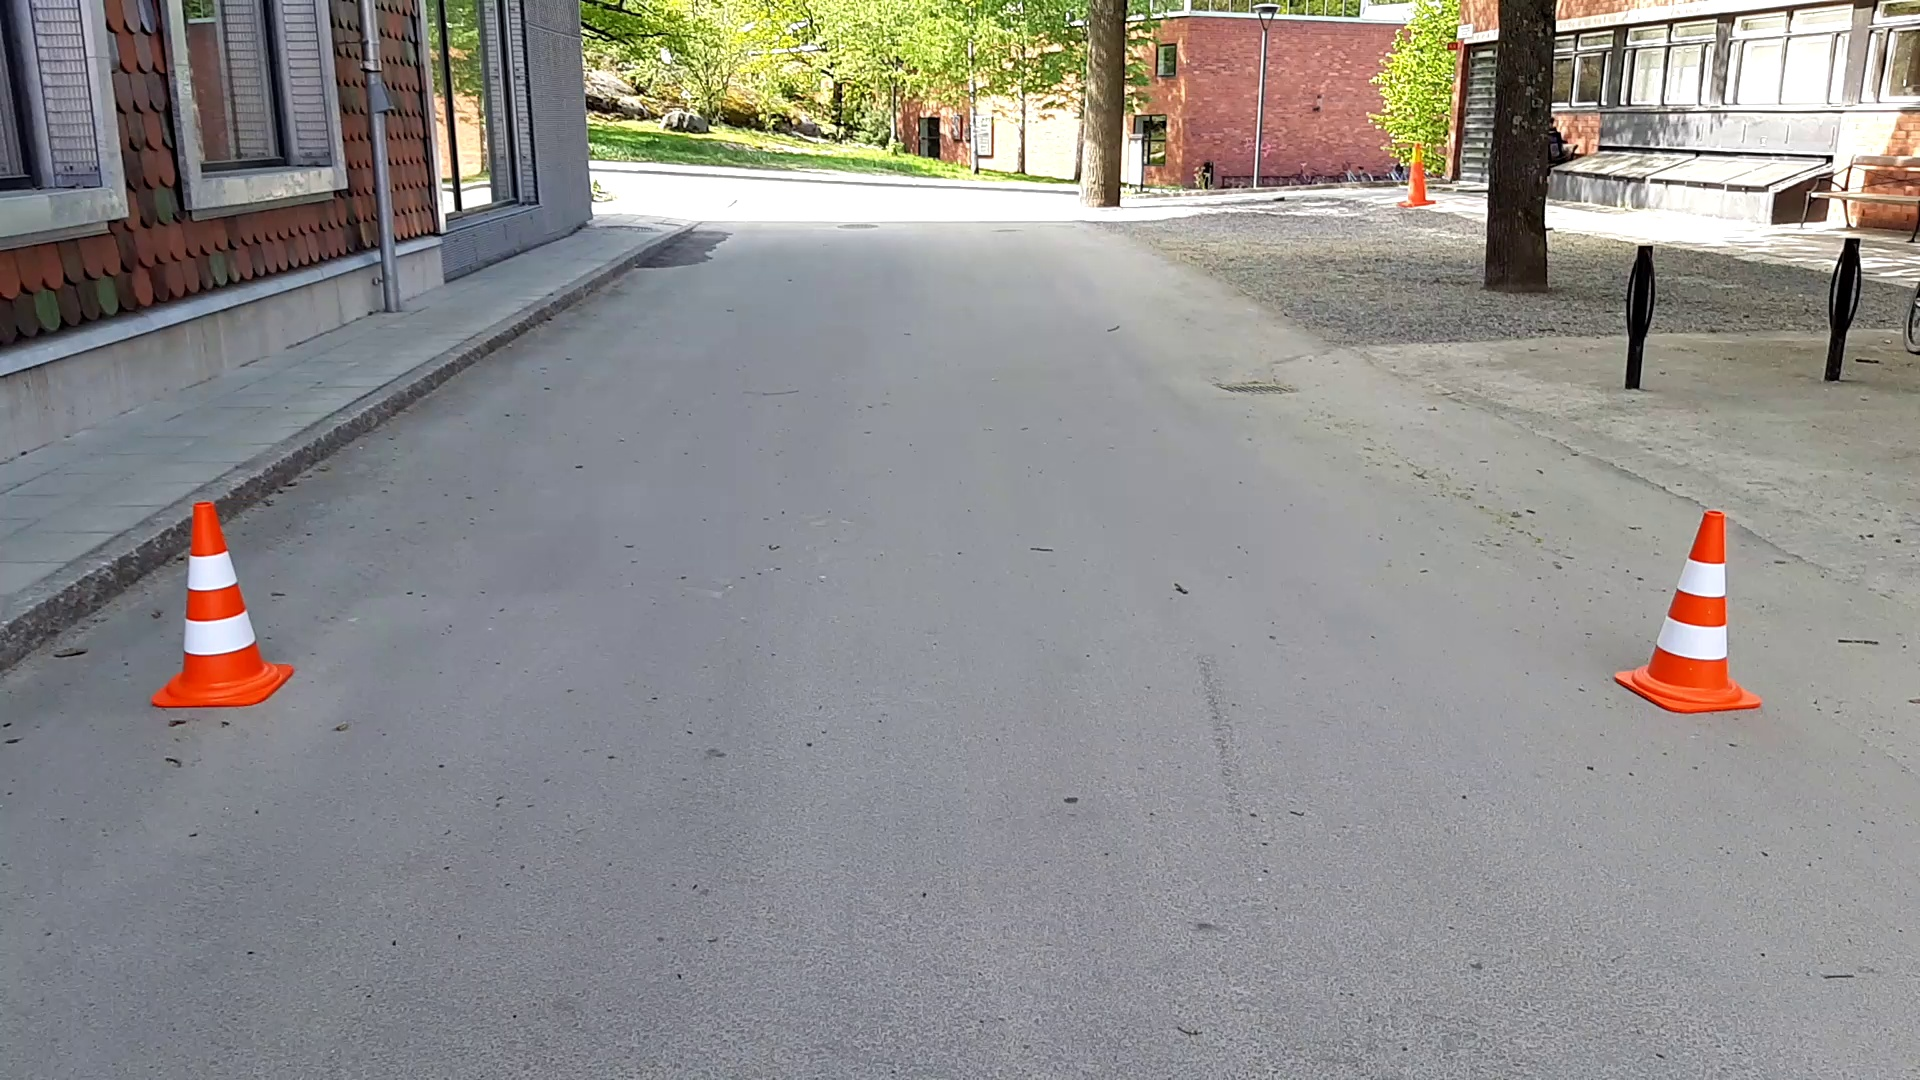Cone: (152, 497, 293, 716), (1615, 509, 1756, 715)
